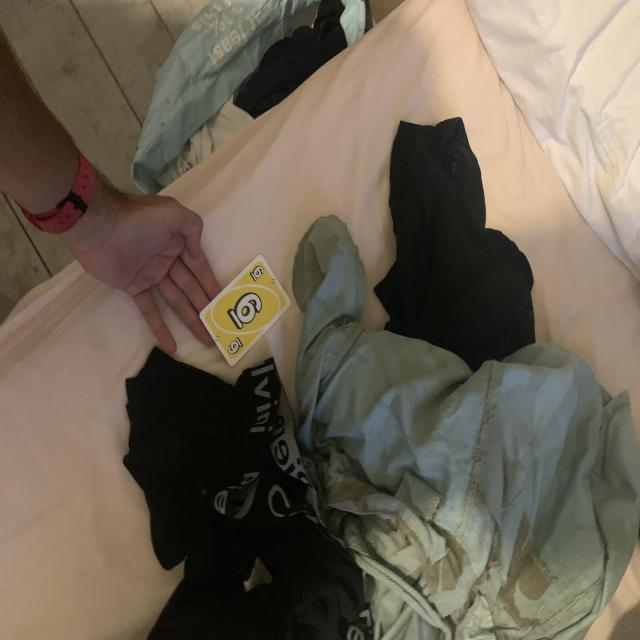lyellow-6: (248, 264, 266, 283)
